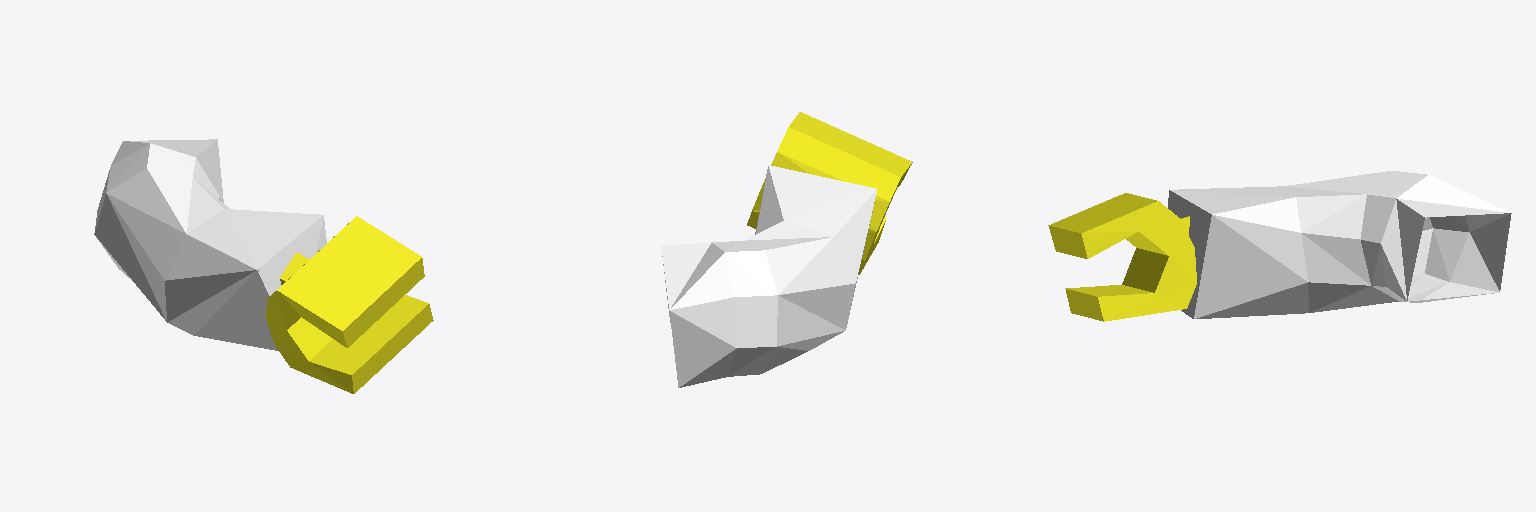
The picture shows the model from 3 angles: view 1: azimuth 30°, elevation 25°; view 2: azimuth 150°, elevation 25°; view 3: azimuth 270°, elevation 25°; orthographic projection.
Parts seen in each view (by area): view 1: R_Arm2; view 2: R_Arm2; view 3: R_Arm2.
Part boxes in pixels (x1,y1,x2,y2): R_Arm2: (94, 139, 433, 393); R_Arm2: (661, 112, 912, 387); R_Arm2: (1048, 171, 1511, 321).
Bounding box in the file's own units: 5.26 × 4.18 × 11.74.
Materials: 1 (1 with a texture image).